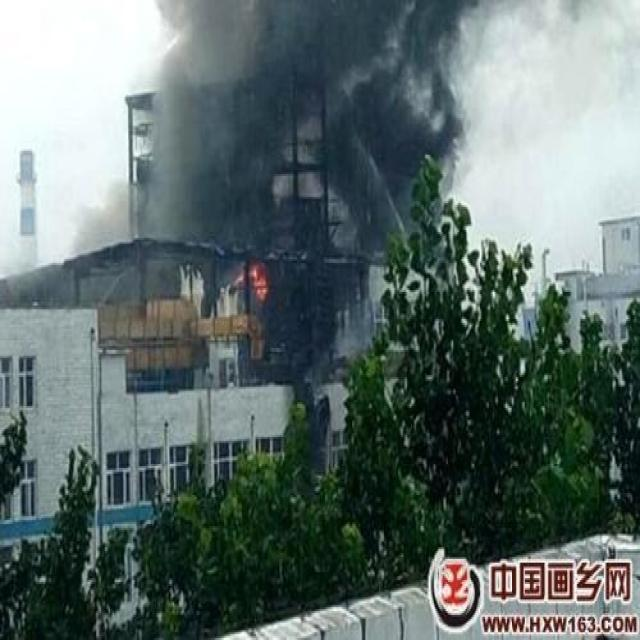Fire: (248, 267, 268, 300)
Smoke: (69, 2, 547, 259)
